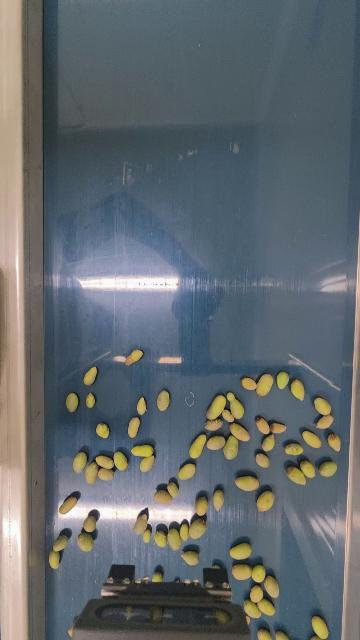Baby Potato: (206, 393, 227, 421), (310, 613, 331, 640), (226, 392, 245, 420), (286, 464, 308, 486), (229, 541, 253, 561), (189, 433, 207, 459), (229, 421, 251, 442), (256, 489, 275, 513), (235, 474, 260, 492), (223, 435, 241, 460), (256, 373, 274, 397), (264, 574, 281, 599), (302, 429, 323, 449), (231, 562, 253, 581), (72, 450, 88, 474), (242, 599, 261, 619), (59, 495, 78, 515), (256, 597, 276, 616), (166, 526, 181, 551), (189, 518, 206, 540), (313, 396, 332, 415), (318, 460, 338, 478), (283, 441, 305, 457), (290, 378, 306, 400), (178, 462, 196, 481), (76, 533, 94, 552), (299, 459, 316, 479), (206, 434, 227, 450), (112, 450, 128, 471), (156, 390, 171, 412), (84, 462, 99, 484), (133, 513, 148, 535), (211, 488, 225, 511), (314, 414, 334, 430), (65, 392, 80, 413), (125, 349, 143, 366), (181, 549, 200, 565), (83, 366, 98, 386), (251, 563, 266, 583), (127, 416, 140, 439), (131, 444, 154, 457), (52, 533, 68, 551), (255, 451, 271, 469), (255, 416, 271, 434), (154, 489, 172, 505), (249, 584, 264, 603), (327, 433, 342, 452), (276, 370, 290, 390), (240, 375, 257, 391), (270, 420, 288, 435), (262, 433, 277, 451), (83, 514, 97, 533), (153, 529, 167, 548), (95, 455, 114, 469), (195, 496, 208, 516), (140, 456, 155, 473), (205, 418, 224, 431), (49, 550, 61, 570), (136, 396, 147, 416), (274, 628, 292, 640), (96, 423, 110, 438), (98, 468, 114, 481), (256, 628, 273, 640), (179, 523, 190, 541), (168, 481, 179, 497), (222, 409, 234, 423), (85, 392, 95, 408), (142, 528, 152, 543), (152, 572, 163, 583), (307, 635, 327, 640)
